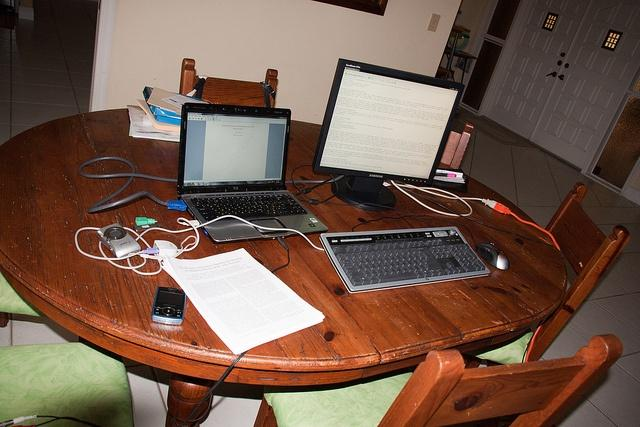AIO PC-Monitor-TV: (312, 57, 463, 187)
Kursi: (250, 333, 622, 426)
Meja: (0, 106, 568, 387)
